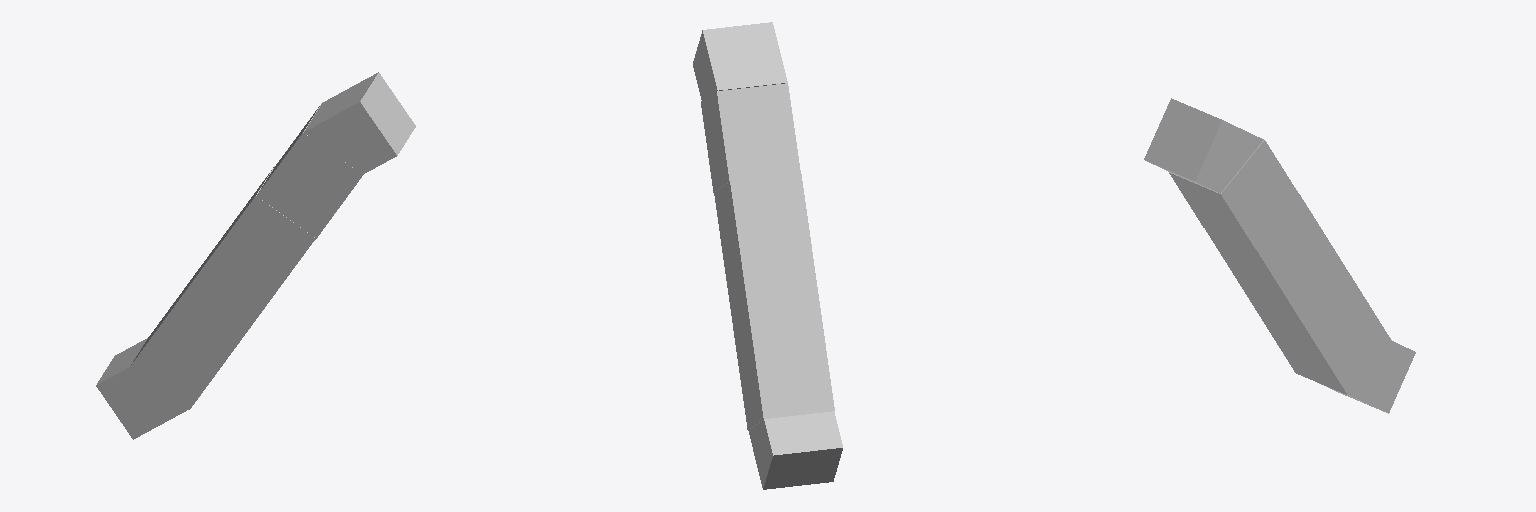
The model's file is diagonal_oak_branch_67_45.obj.
3 views of the same model, side by side, from view 1: azimuth 30°, elevation 25°; view 2: azimuth 150°, elevation 25°; view 3: azimuth 270°, elevation 25° (orthographic).
Parts seen in each view (by area): view 1: halfbeam, halfbeam.000, halfbeam.002, halfbeam.001; view 2: halfbeam, halfbeam.002, halfbeam.001, halfbeam.000; view 3: halfbeam, halfbeam.002, halfbeam.000, halfbeam.001.
Part boxes in pixels (x1,y1,x2,y2): halfbeam: (129, 166, 315, 409); halfbeam.000: (304, 72, 415, 174); halfbeam.002: (257, 102, 362, 239); halfbeam.001: (96, 338, 187, 439); halfbeam: (714, 172, 834, 429); halfbeam.002: (701, 83, 800, 192); halfbeam.001: (748, 411, 842, 489); halfbeam.000: (693, 22, 787, 100); halfbeam: (1205, 194, 1391, 394); halfbeam.002: (1169, 140, 1299, 249); halfbeam.000: (1144, 98, 1263, 193); halfbeam.001: (1319, 341, 1415, 413).
Bounding box in the file's own units: 0.9205 × 1.36 × 0.9218.